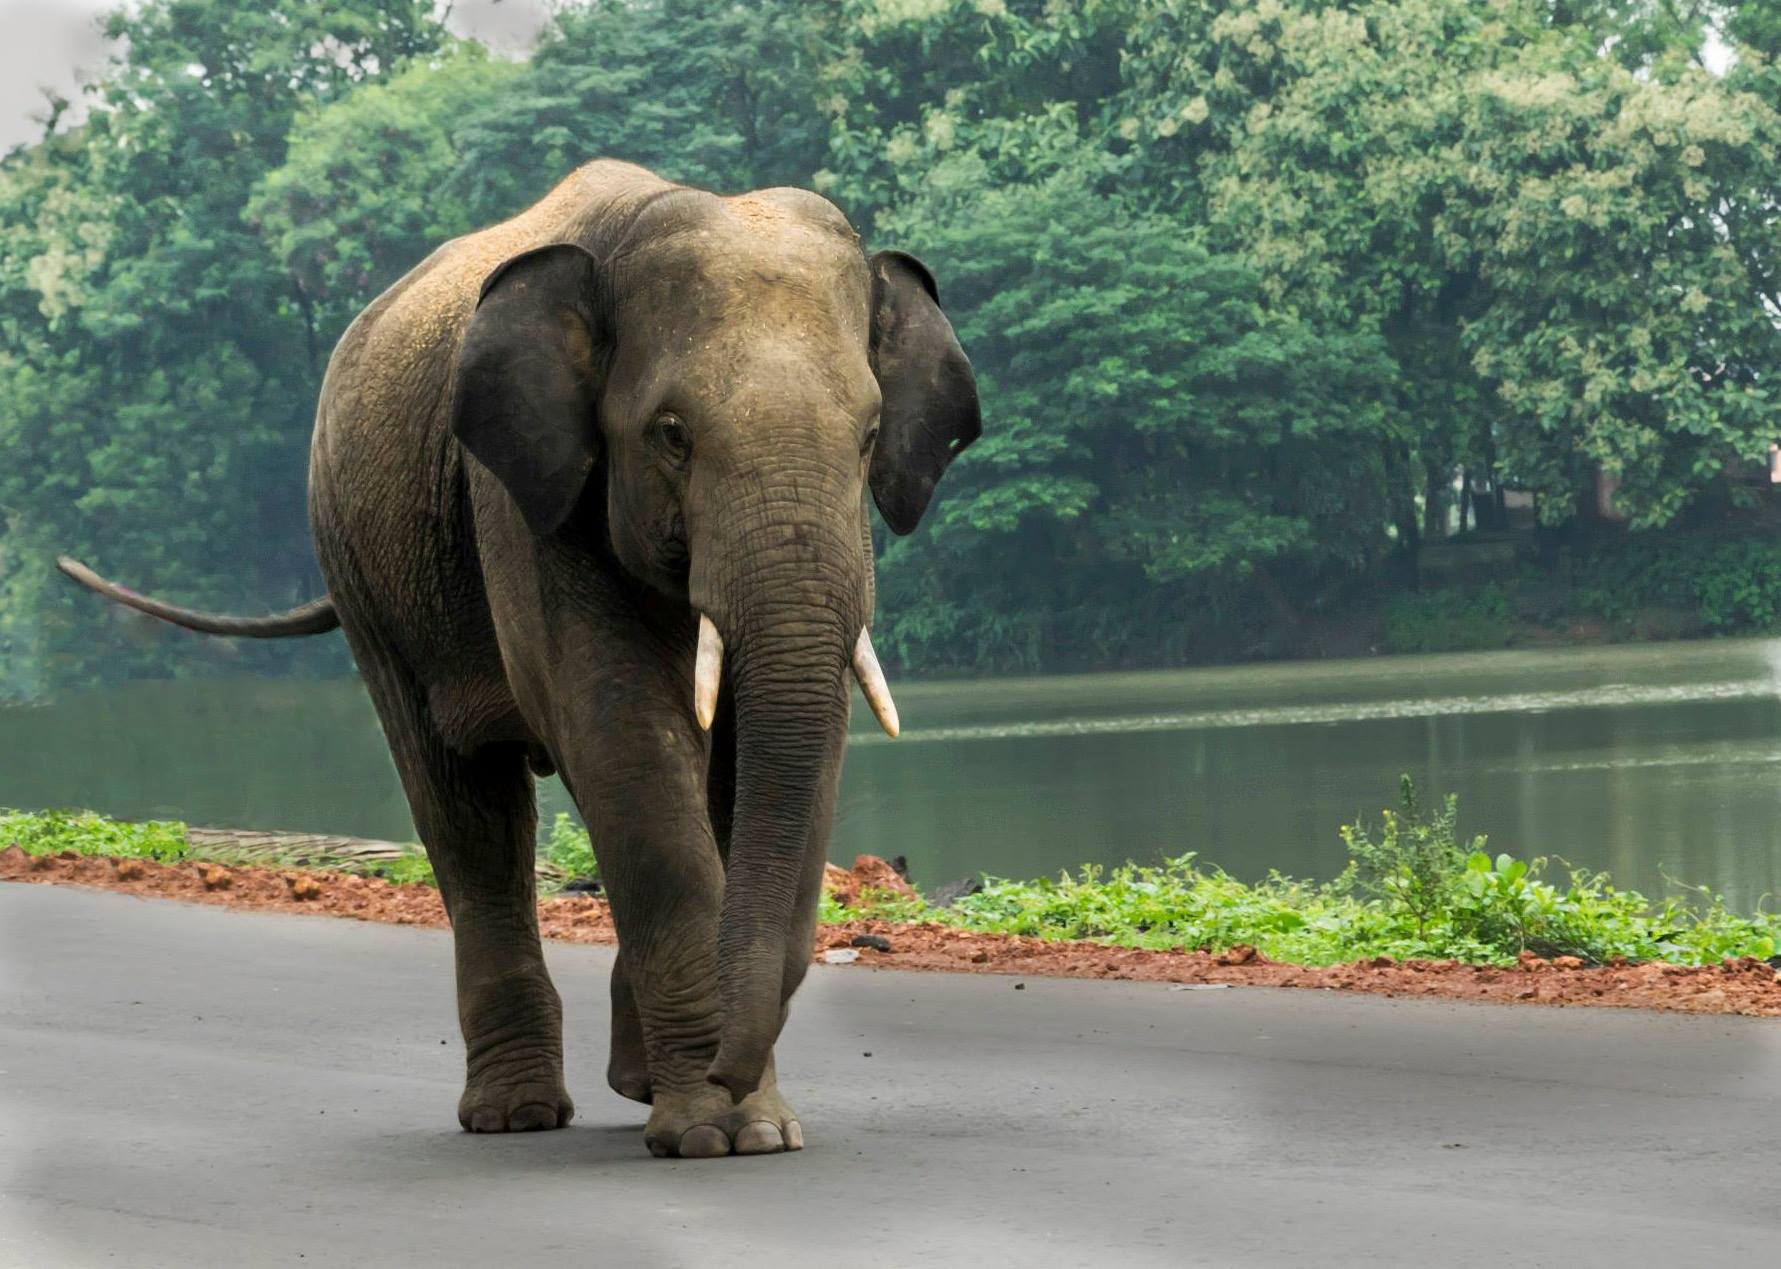Indian Elephant: (205, 124, 1004, 1199)
